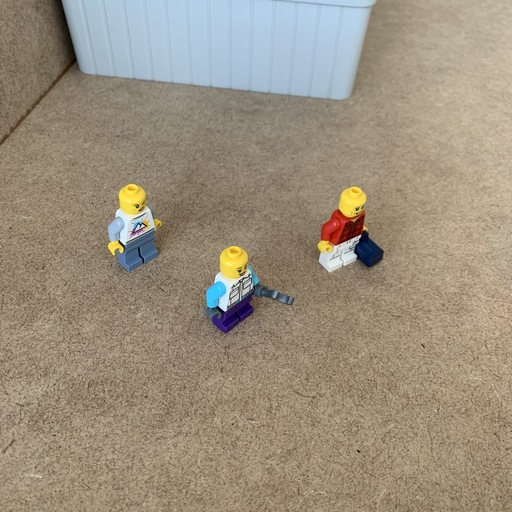human: (193, 237, 278, 332), (309, 182, 383, 282), (99, 181, 162, 272)
